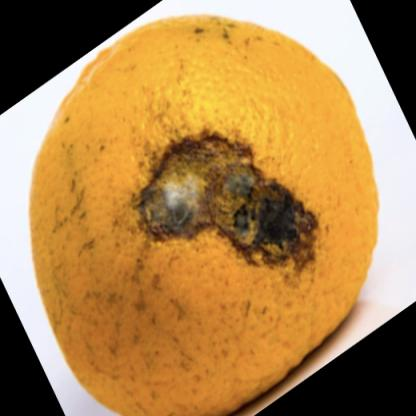rotten: (30, 18, 379, 416)
